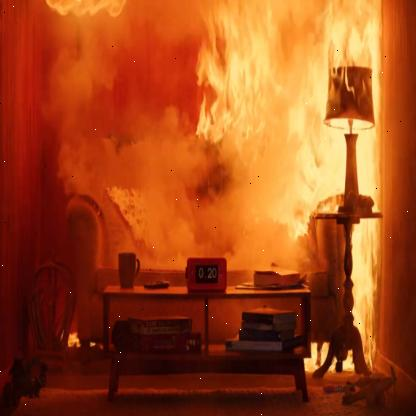fire: (191, 0, 389, 387)
smoke: (0, 7, 300, 384)
